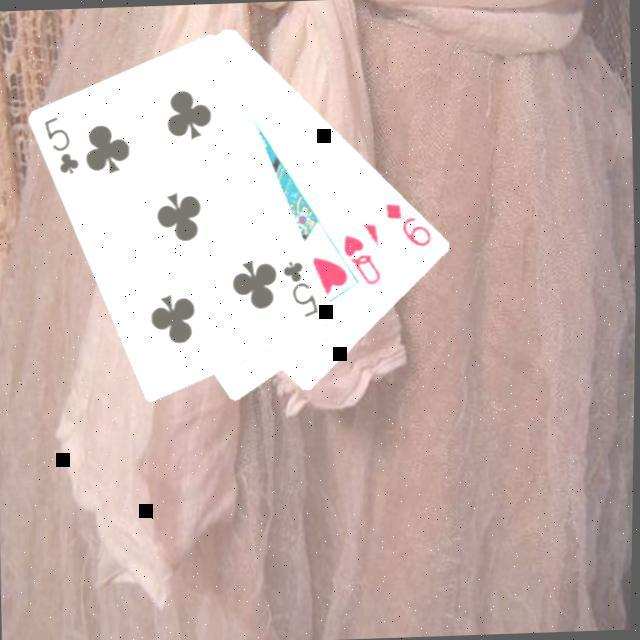5C: (38, 111, 82, 178), (278, 256, 322, 320)
9D: (380, 197, 436, 250)
QH: (338, 228, 386, 288)
